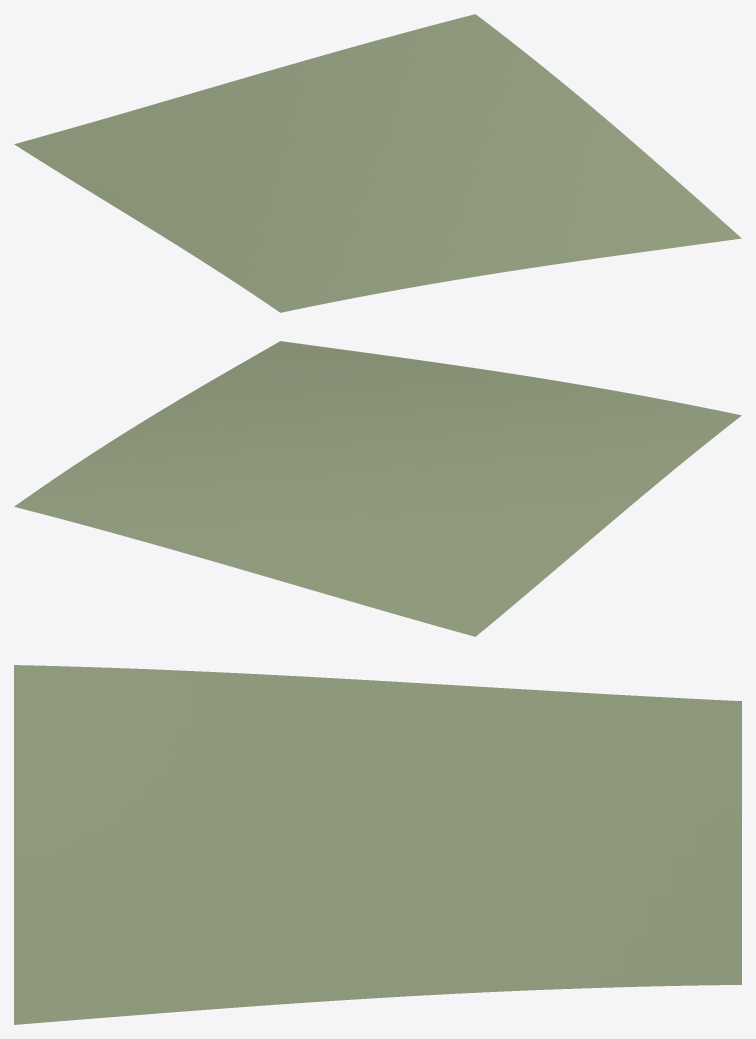
The model's file is alpine-0-3.glb.
3 views of the same model, one above another, from view 1: azimuth 30°, elevation 25°; view 2: azimuth 150°, elevation 25°; view 3: azimuth 270°, elevation 25° (orthographic). The views are drawn at different scales.
Parts seen in each view (by area): view 1: alpine-0-3; view 2: alpine-0-3; view 3: alpine-0-3.
Part boxes in pixels (box(x1,y1,x2,y2)): alpine-0-3: box(14, 14, 741, 312); alpine-0-3: box(14, 341, 741, 636); alpine-0-3: box(14, 665, 741, 1024).
Size of the model in its own units: 256 by 20.29 by 256.
